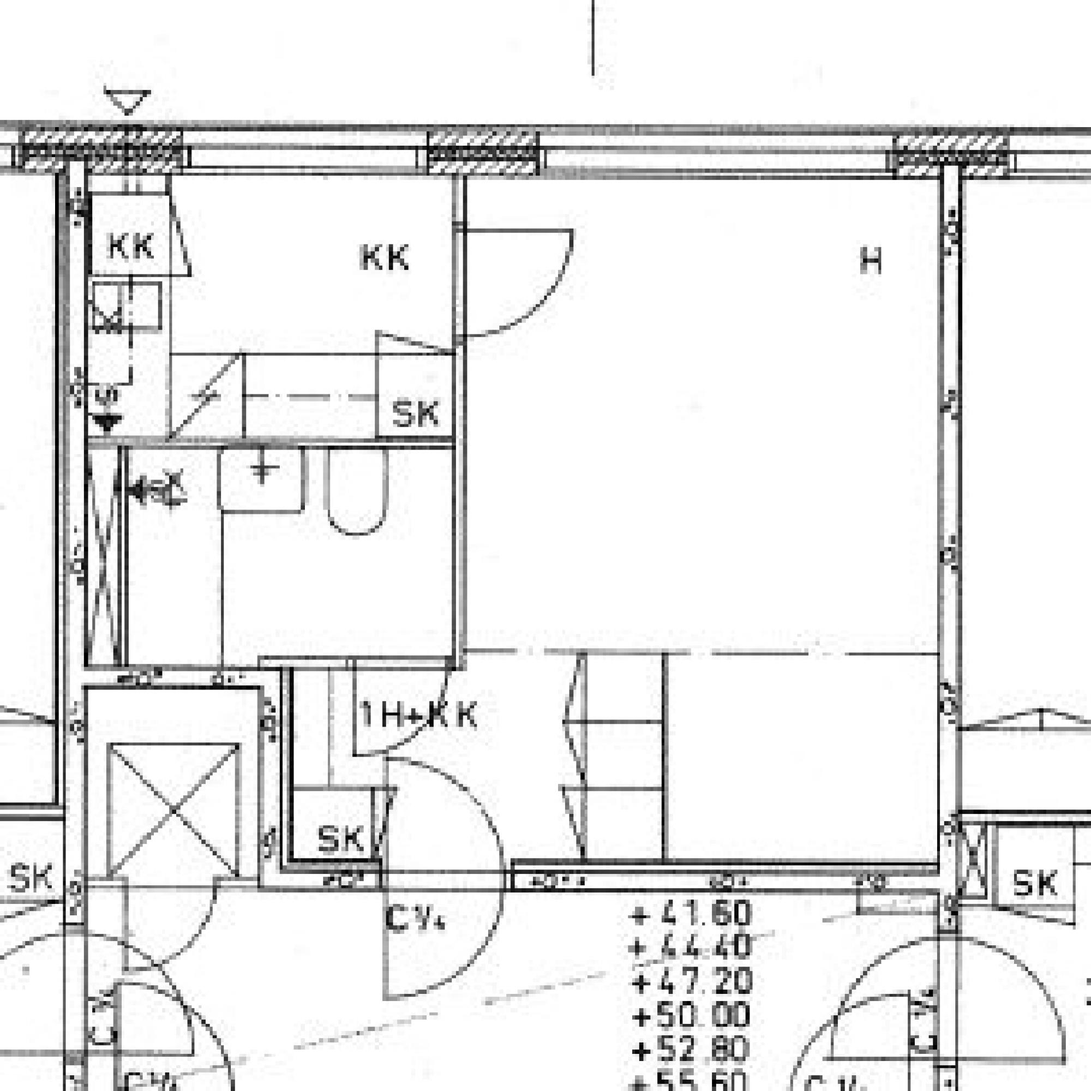wall: (57, 125, 962, 173), (259, 861, 961, 891), (939, 125, 962, 892), (57, 439, 127, 689), (56, 125, 87, 439), (259, 669, 292, 892), (56, 669, 292, 689), (87, 439, 464, 451), (453, 125, 464, 451), (259, 658, 464, 670), (453, 450, 464, 669)
